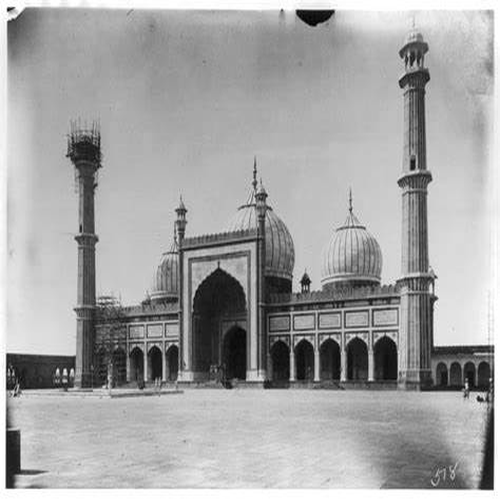Mosque: (55, 19, 447, 393)
